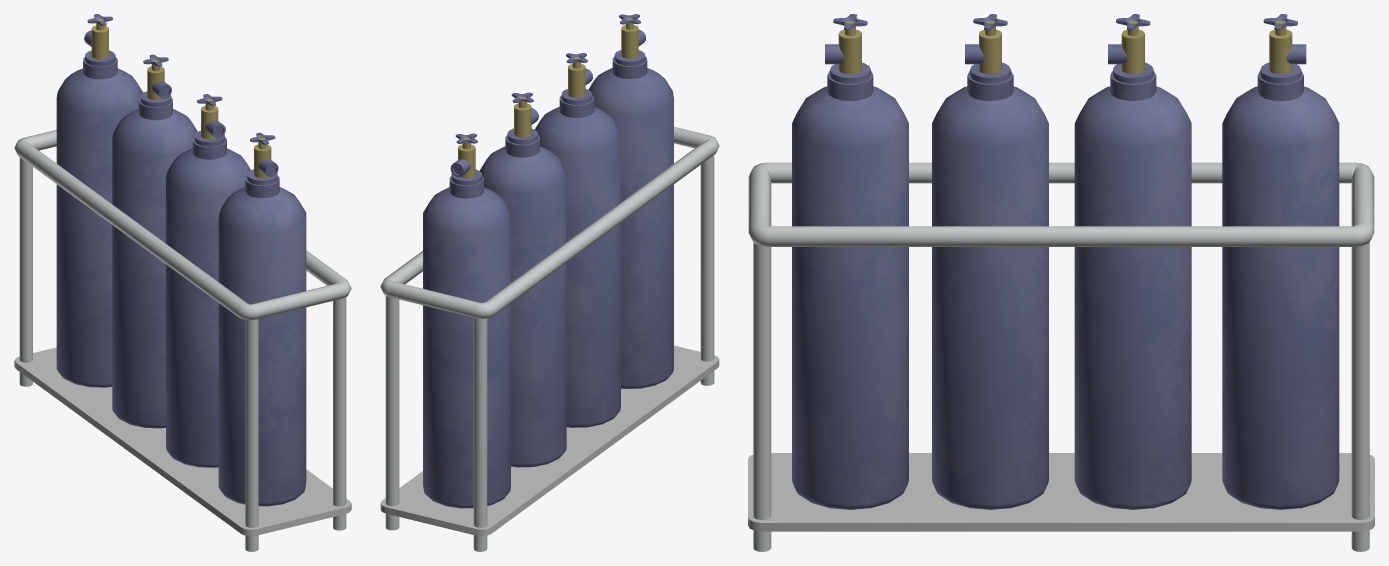
Rendered from oxygen-cylinders.glb.
3 views of the same model, side by side, from view 1: azimuth 30°, elevation 25°; view 2: azimuth 150°, elevation 25°; view 3: azimuth 270°, elevation 25° (orthographic). The views are drawn at different scales.
Visible parts, largest first — view 1: OxygenTube-material; view 2: OxygenTube-material; view 3: OxygenTube-material.
Part boxes in pixels (x1,y1,x2,y2): OxygenTube-material: (14, 14, 351, 551); OxygenTube-material: (380, 14, 719, 551); OxygenTube-material: (748, 14, 1374, 551).
Bounding box in the file's own units: 0.0559 × 0.1782 × 0.2027.
Materials: 1 (1 with a texture image).
